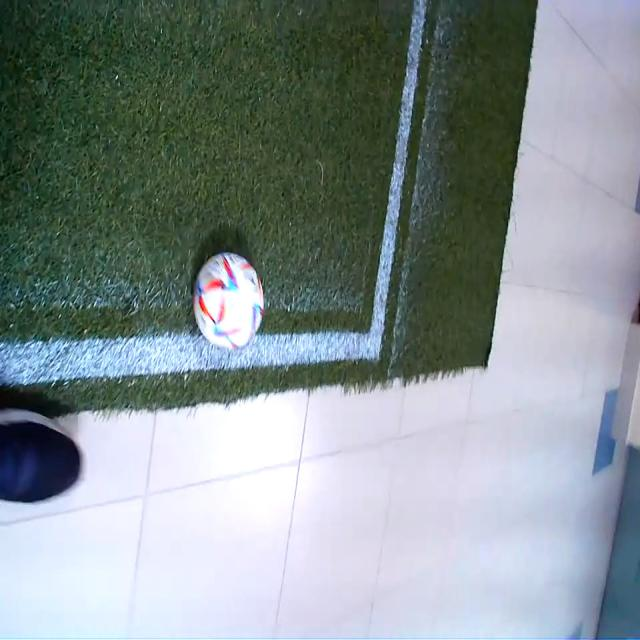ball: (193, 252, 265, 348)
